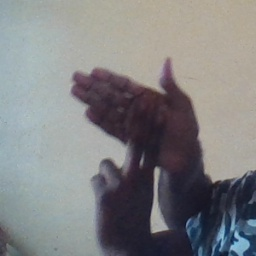N: (64, 54, 203, 204)
